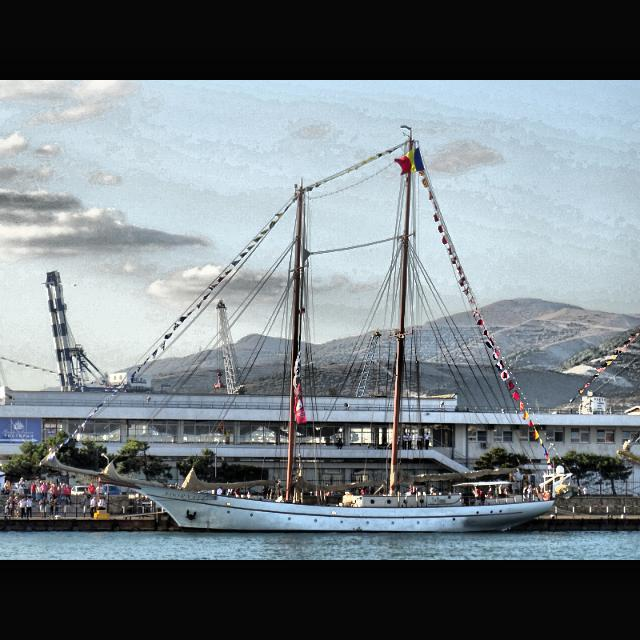sailing_vessel: (32, 121, 578, 534)
